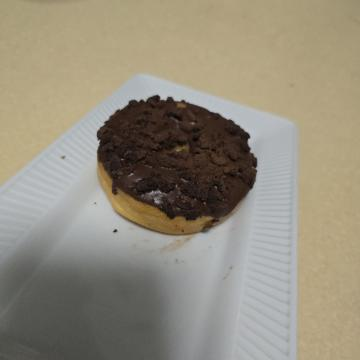doughnut: (89, 94, 252, 278)
